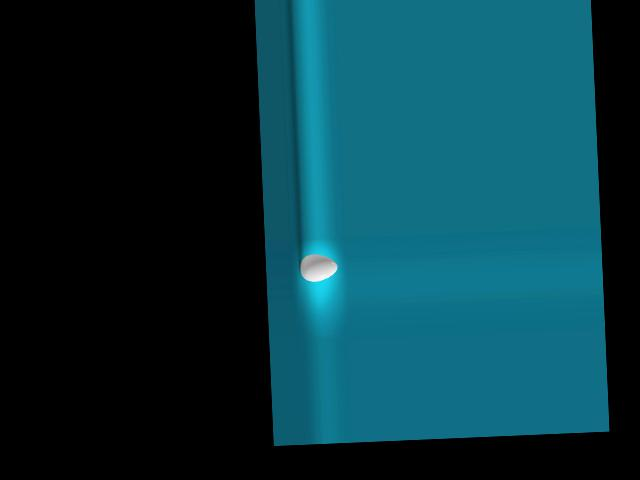egg: (299, 252, 337, 282)
